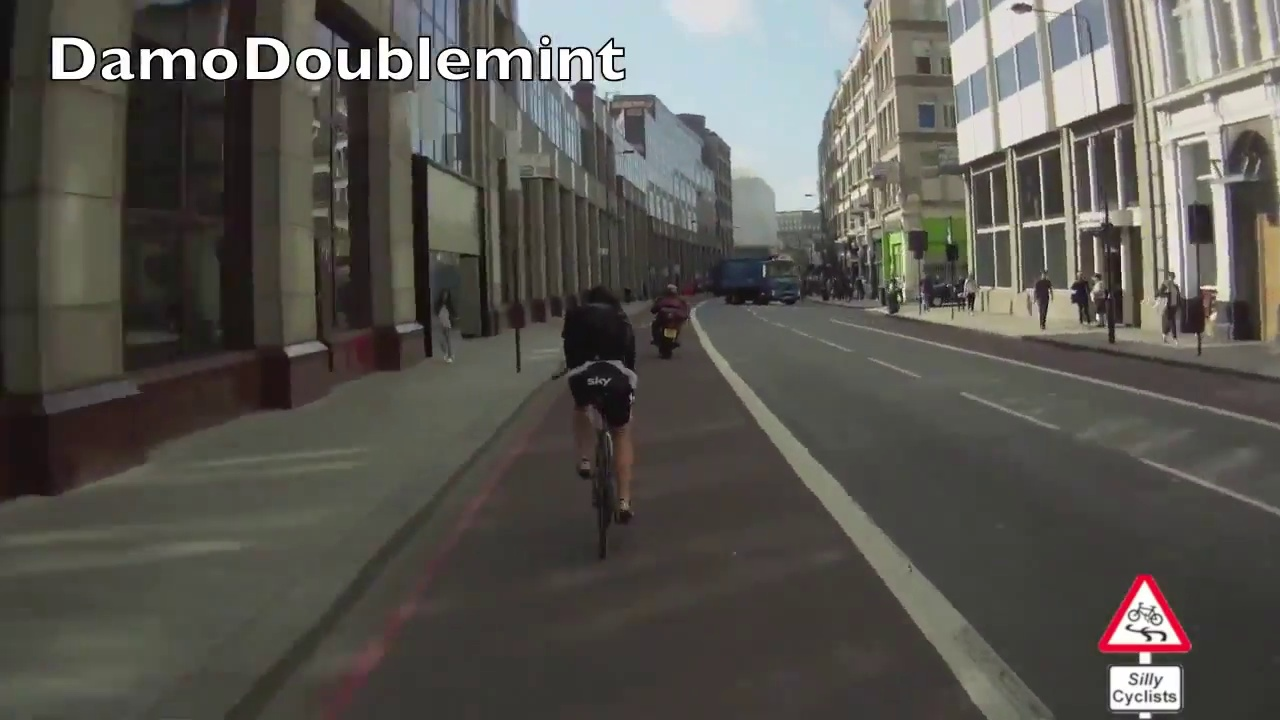cyclist_back: (562, 276, 650, 550), (654, 268, 688, 360)
